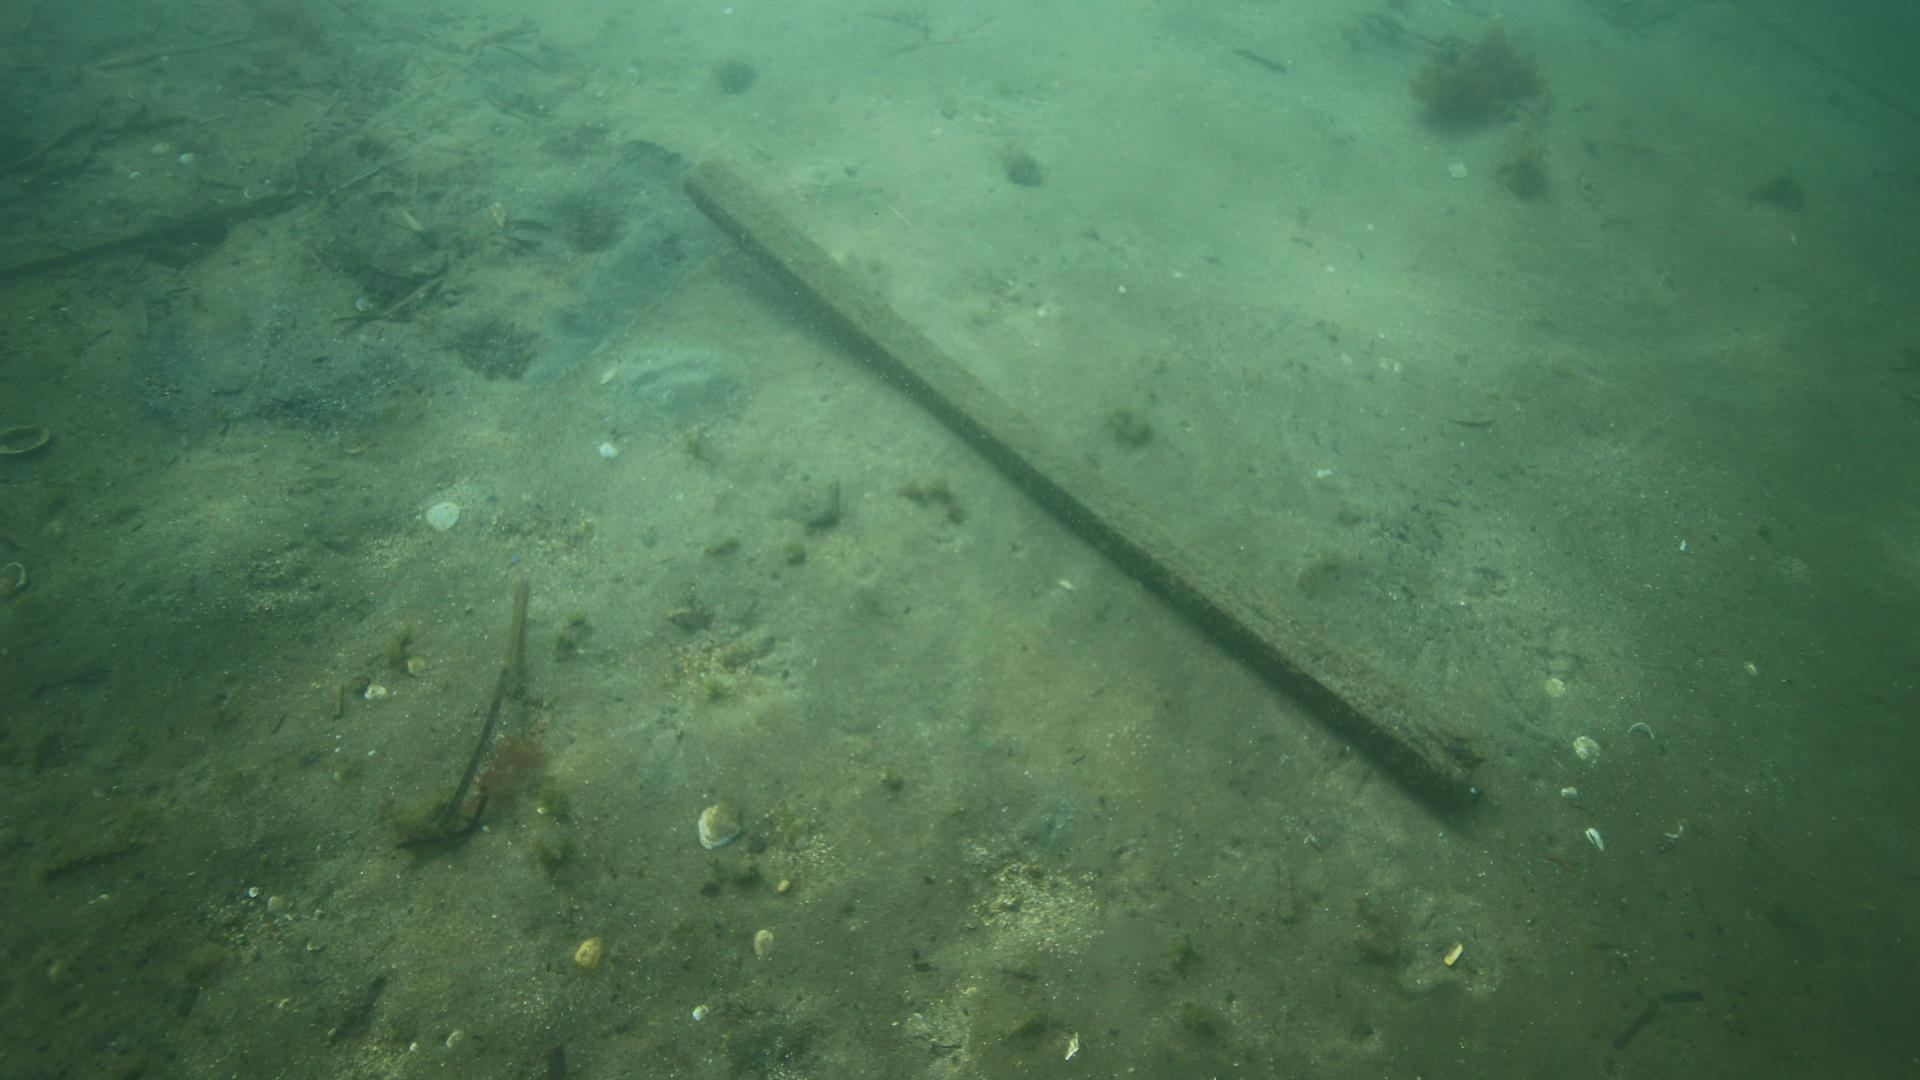wood: (683, 156, 1484, 814)
